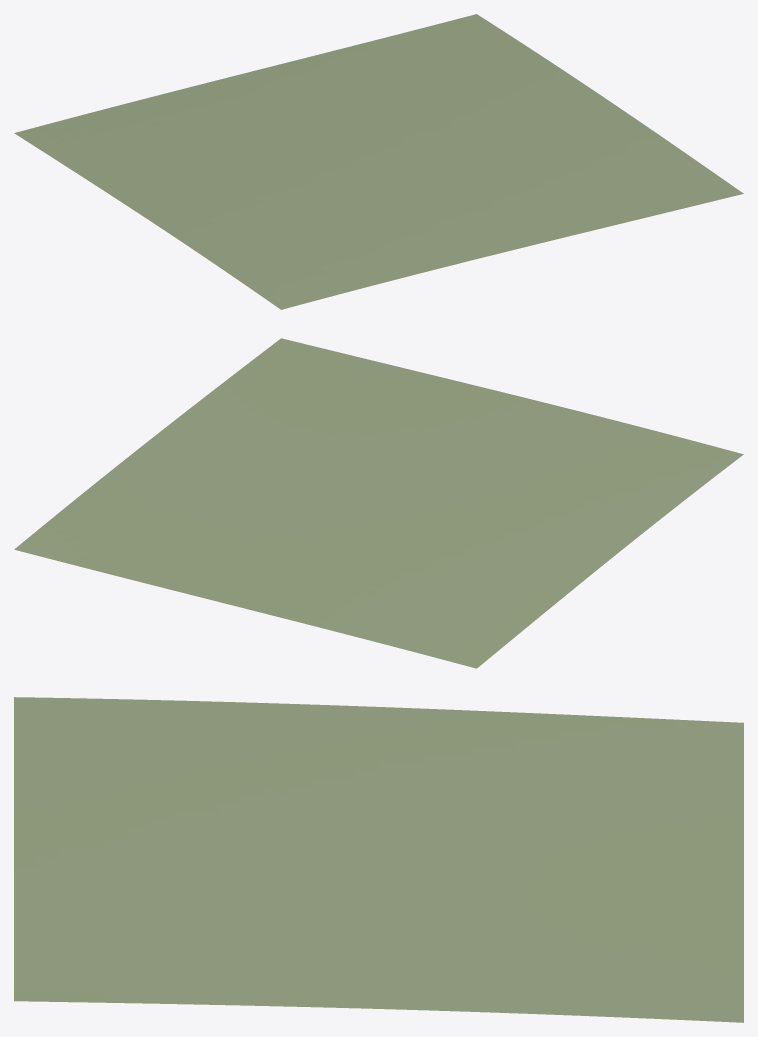
File: expanse-26-0.glb
3 views of the same model, one above another, from view 1: azimuth 30°, elevation 25°; view 2: azimuth 150°, elevation 25°; view 3: azimuth 270°, elevation 25° (orthographic). The views are drawn at different scales.
Parts seen in each view (by area): view 1: expanse-26-0; view 2: expanse-26-0; view 3: expanse-26-0.
Boxes of the visible parts, left/top/right/bottom form: expanse-26-0: left=14, top=14, right=743, bottom=309; expanse-26-0: left=14, top=338, right=743, bottom=668; expanse-26-0: left=14, top=697, right=743, bottom=1022.
Bounding box in the file's own units: 256 × 11.68 × 256.
